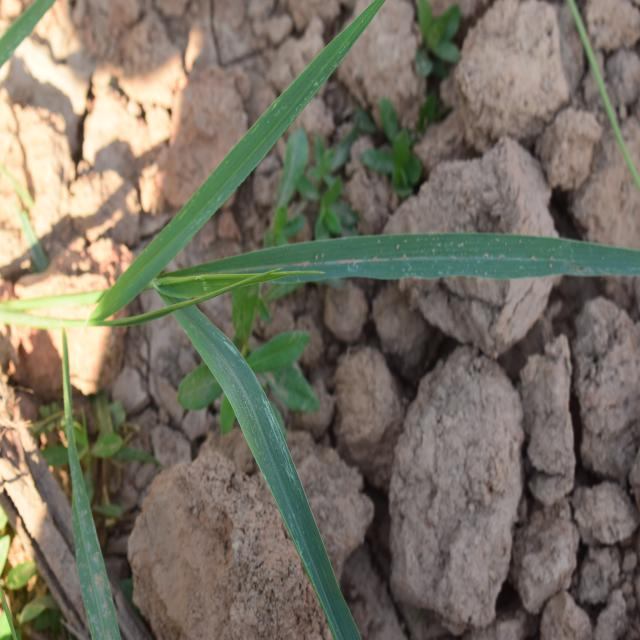green_foxtail: (105, 66, 589, 546)
